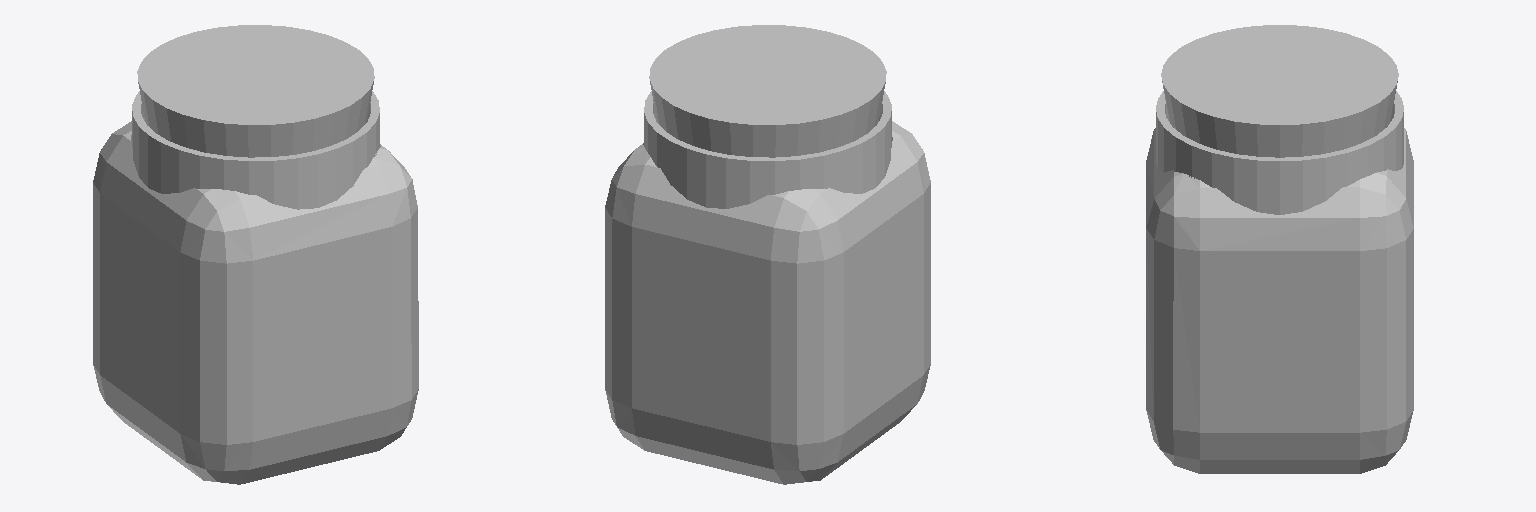
The model's file is jarre.obj.
3 views of the same model, side by side, from view 1: azimuth 30°, elevation 25°; view 2: azimuth 150°, elevation 25°; view 3: azimuth 270°, elevation 25° (orthographic).
Parts seen in each view (by area): view 1: CylindreSurf, Cylindre; view 2: CylindreSurf, Cylindre; view 3: CylindreSurf, Cylindre.
Boxes of the visible parts, x1,y1,x2,y2 form: CylindreSurf: [93, 91, 418, 484]; Cylindre: [137, 25, 374, 157]; CylindreSurf: [605, 91, 930, 484]; Cylindre: [649, 25, 886, 157]; CylindreSurf: [1146, 91, 1413, 473]; Cylindre: [1161, 25, 1398, 157].
Bounding box in the file's own units: 1.63 × 2.44 × 1.63.